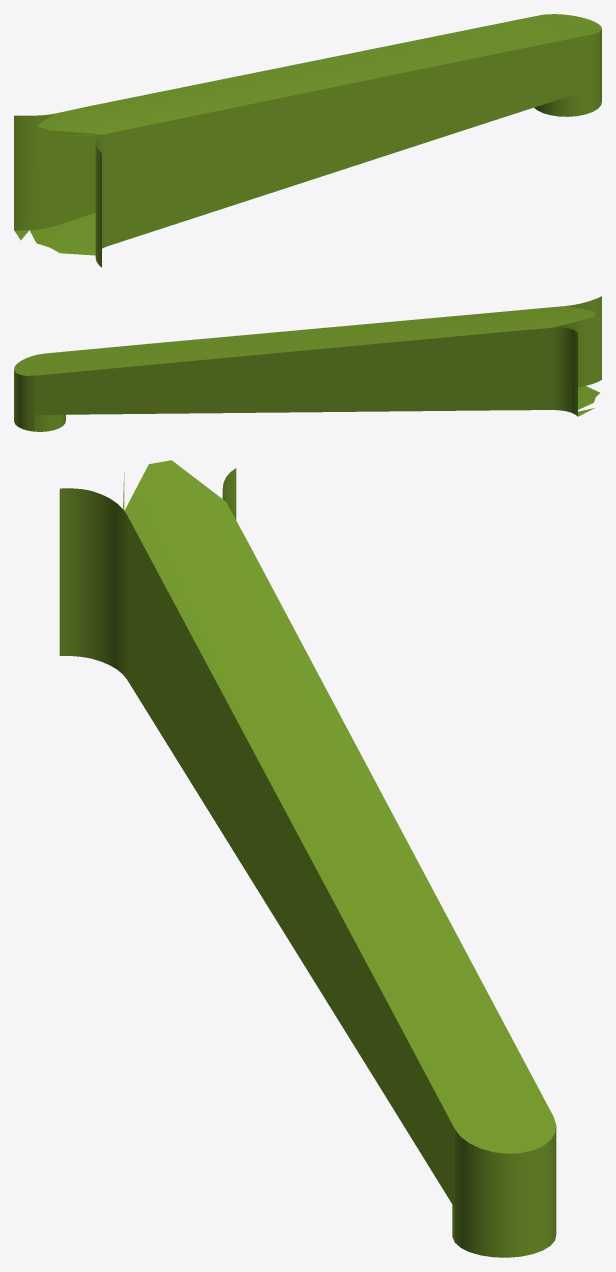
3 renders of one model, top to bottom at view 1: azimuth 30°, elevation 25°; view 2: azimuth 150°, elevation 25°; view 3: azimuth 270°, elevation 25°, orthographic. The views are drawn at different scales.
Size of the model in its own units: 0.4967 by 0.1501 by 0.2137.
